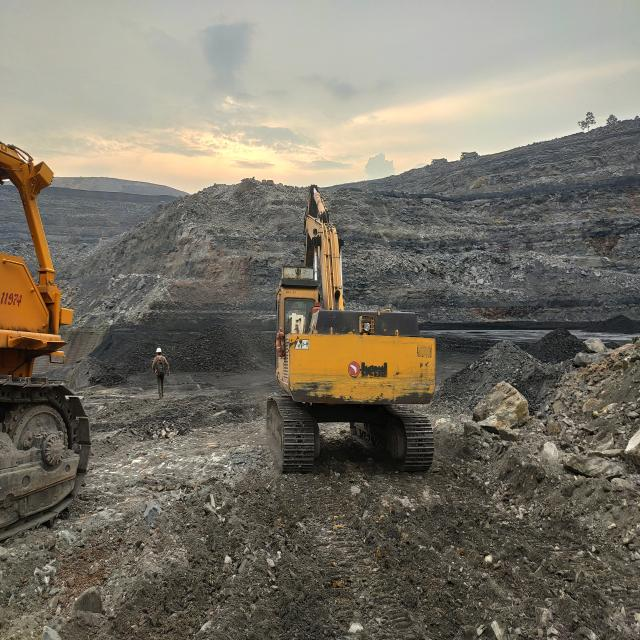buldozerpayloadergrader: (0, 141, 84, 557)
excavator: (274, 186, 437, 475)
